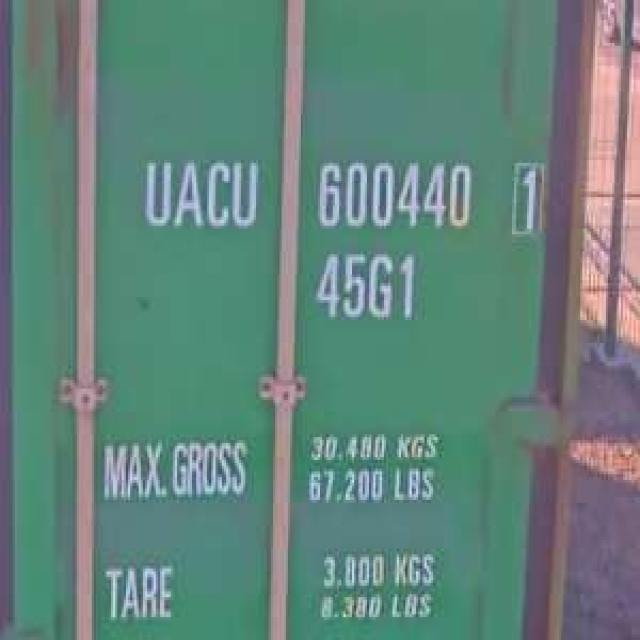dv: (508, 157, 549, 240)
owner: (136, 151, 264, 234)
serial: (312, 154, 479, 238)
size: (308, 241, 420, 328)
